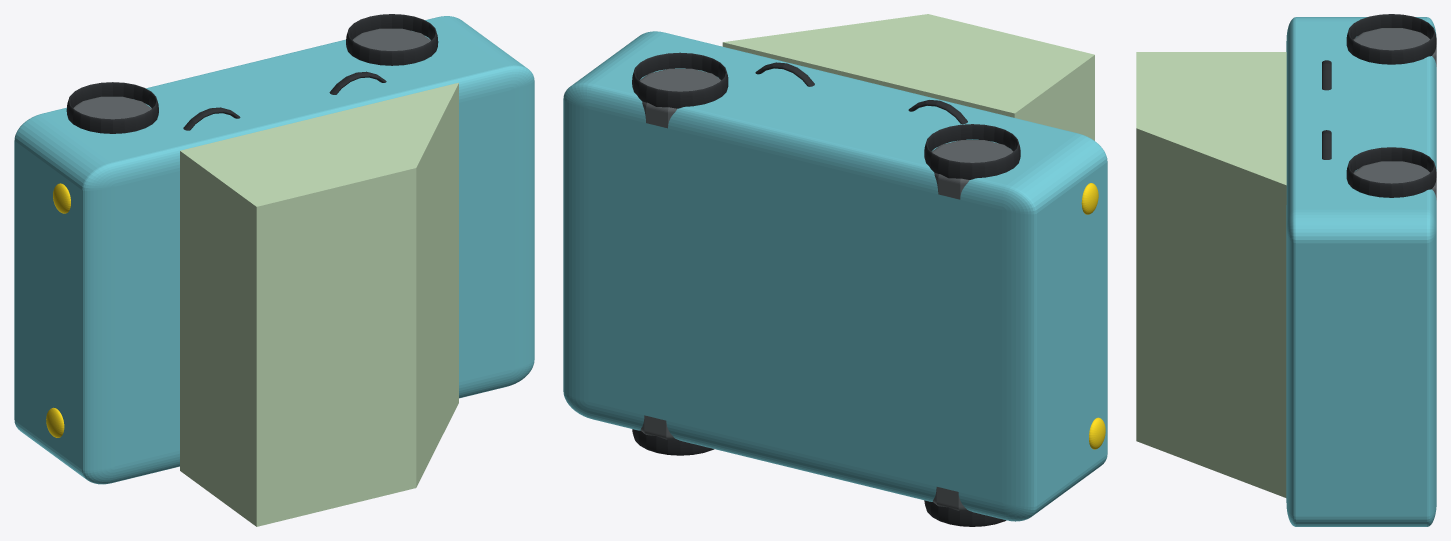
Rendered from tinker.obj.
3 views of the same model, side by side, from view 1: azimuth 30°, elevation 25°; view 2: azimuth 150°, elevation 25°; view 3: azimuth 270°, elevation 25° (orthographic). The views are drawn at different scales.
Visible parts, largest first — view 1: group_0_13165757, group_0_7720667, group_0_2829873, group_0_6383466, group_0_16768282; view 2: group_0_7720667, group_0_13165757, group_0_2829873, group_0_6383466, group_0_16768282; view 3: group_0_7720667, group_0_13165757, group_0_2829873, group_0_6383466.
Part boxes in pixels (box(x1,y1,x2,y2)): group_0_13165757: box(180, 82, 458, 526); group_0_7720667: box(14, 16, 534, 484); group_0_2829873: box(66, 14, 438, 133); group_0_6383466: box(73, 28, 430, 119); group_0_16768282: box(46, 183, 70, 437); group_0_7720667: box(563, 31, 1107, 521); group_0_13165757: box(722, 14, 1094, 140); group_0_2829873: box(632, 52, 1020, 526); group_0_6383466: box(639, 68, 1013, 510); group_0_16768282: box(1081, 183, 1105, 449); group_0_7720667: box(1286, 17, 1436, 526); group_0_13165757: box(1136, 52, 1286, 497); group_0_2829873: box(1322, 14, 1436, 197); group_0_6383466: box(1353, 28, 1436, 199).
Size of the model in its own units: 35 by 25 by 20.
